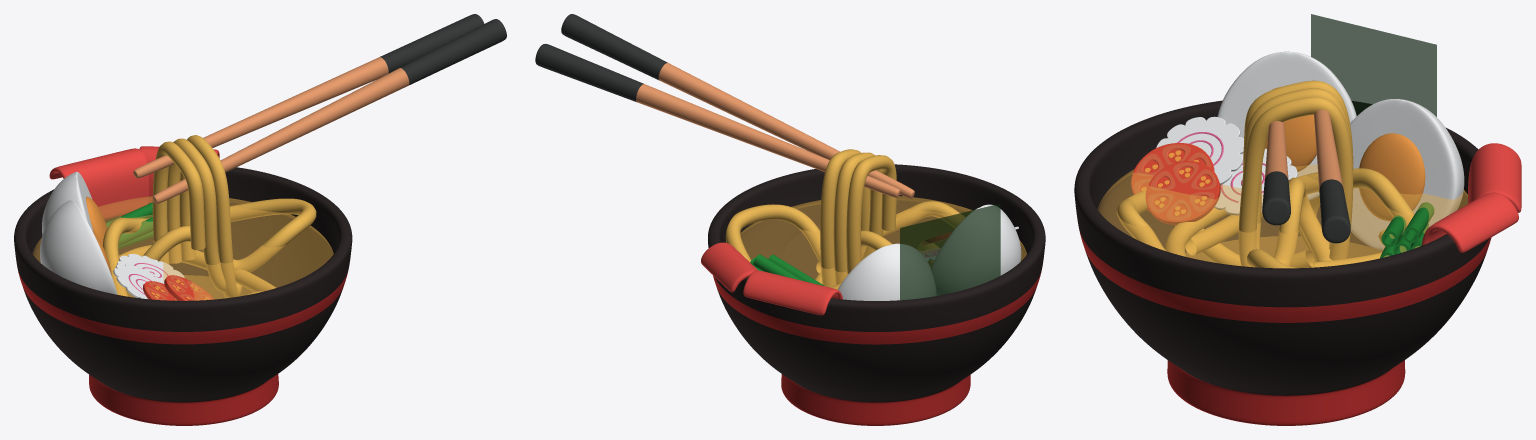
Rendered from ramen-transformed.glb.
3 renders of one model, left to right at view 1: azimuth 30°, elevation 25°; view 2: azimuth 150°, elevation 25°; view 3: azimuth 270°, elevation 25°, orthographic. The views are drawn at different scales.
Parts seen in each view (by area): view 1: Sphere, Sphere.001, Sticks, Sticks.001, Noodle.003, Noodle, Noodle.002; view 2: Sphere, Plane.002, Sticks.001, Sticks, Sphere.001, Noodle.002, Noodle.003, Noodle; view 3: Sphere, Sphere.001, Plane.002, Noodle, Sticks.001, Sticks, Noodle.003, Noodle.002.
Boxes of the visible parts, x1=… form: Sphere: x1=14, y1=146, x2=352, y2=425; Sphere.001: x1=32, y1=196, x2=333, y2=300; Sticks: x1=152, y1=19, x2=506, y2=203; Sticks.001: x1=133, y1=14, x2=484, y2=178; Noodle.003: x1=167, y1=138, x2=226, y2=292; Noodle: x1=180, y1=135, x2=242, y2=298; Noodle.002: x1=152, y1=141, x2=205, y2=264; Sphere: x1=701, y1=164, x2=1045, y2=425; Plane.002: x1=900, y1=203, x2=1000, y2=300; Sticks.001: x1=535, y1=43, x2=900, y2=197; Sticks: x1=561, y1=14, x2=914, y2=198; Sphere.001: x1=740, y1=196, x2=1026, y2=286; Noodle.002: x1=846, y1=155, x2=896, y2=274; Noodle.003: x1=816, y1=152, x2=883, y2=284; Noodle: x1=820, y1=149, x2=870, y2=287; Sphere: x1=1074, y1=51, x2=1521, y2=425; Sphere.001: x1=1097, y1=164, x2=1467, y2=267; Plane.002: x1=1311, y1=14, x2=1436, y2=116; Noodle: x1=1238, y1=96, x2=1353, y2=266; Sticks.001: x1=1314, y1=109, x2=1350, y2=243; Sticks: x1=1262, y1=121, x2=1290, y2=225; Noodle.003: x1=1243, y1=88, x2=1353, y2=268; Noodle.002: x1=1244, y1=80, x2=1353, y2=172.
Bounding box in the file's own units: 0.8248 × 0.5005 × 0.5484.
3 materials, 3 textured.
